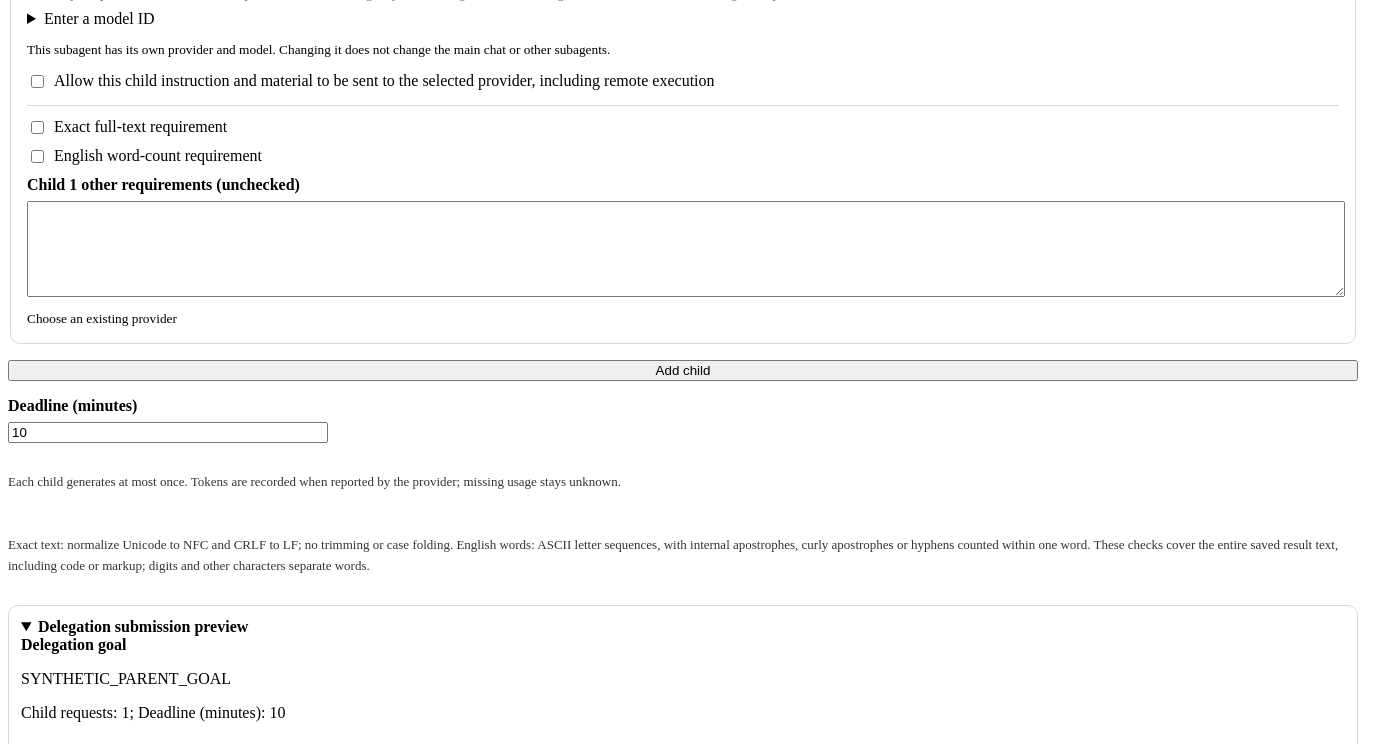
Test: controlled delegation UI › never offers a fourth editor and never starts a task merely by editing or closing a draft
Later steps or results of the test are not shown.
(page scrolled)
Click the button "Add child".
click(683, 370)  # box [8,360,1358,381]
(page scrolled)
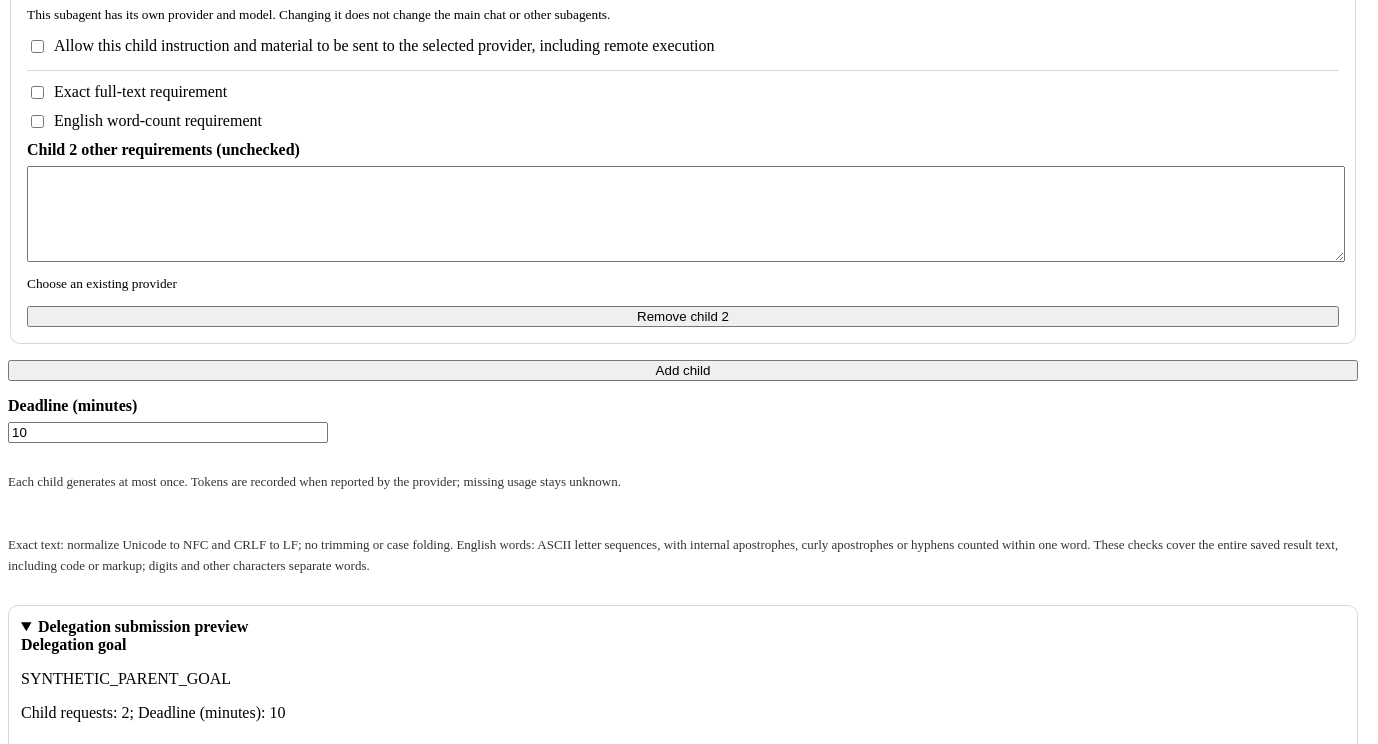
Click the button "Add child".
click(683, 370)  # box [8,360,1358,381]
(page scrolled)
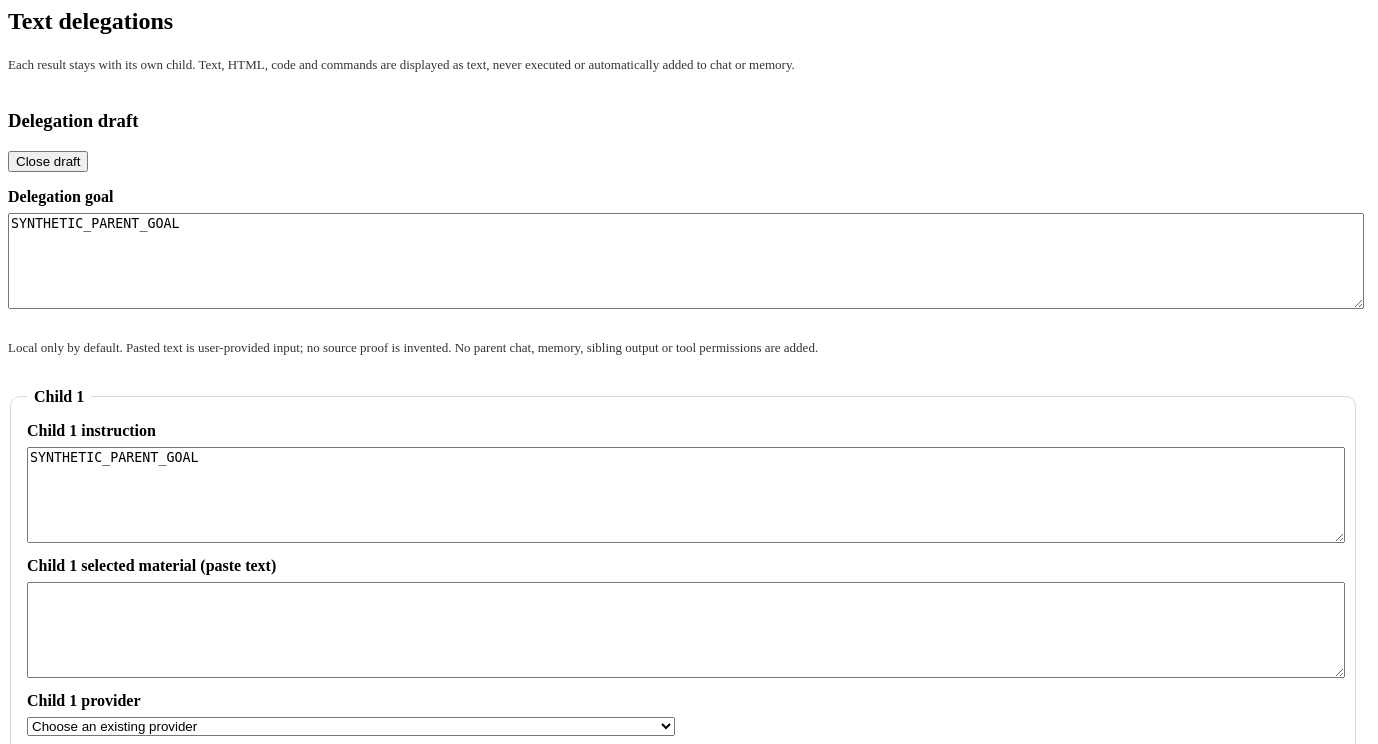
Result: the number of elements "Child 1" is 3
